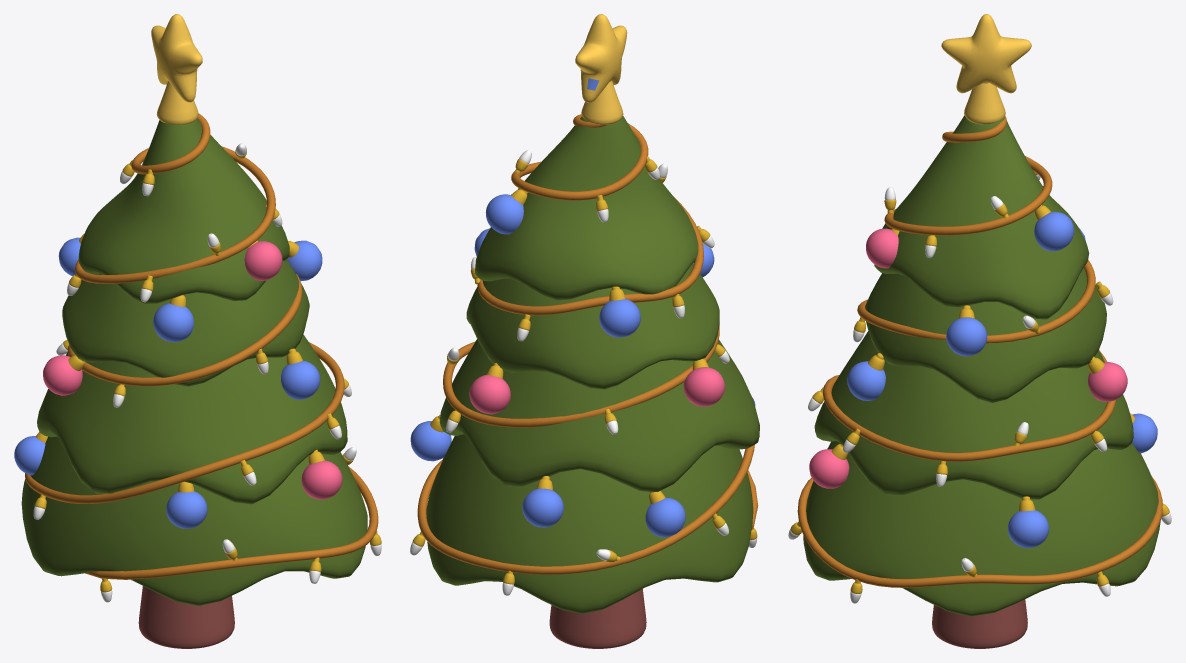
Rendered from X mas Tree.fbx.
The picture shows the model from 3 angles, left to right: view 1: azimuth 30°, elevation 25°; view 2: azimuth 150°, elevation 25°; view 3: azimuth 270°, elevation 25°; orthographic projection.
Visible parts, largest first — view 1: polySurface4; view 2: polySurface4; view 3: polySurface4.
Part boxes in pixels (x1,y1,x2,y2): polySurface4: (14, 14, 381, 648); polySurface4: (410, 14, 759, 648); polySurface4: (788, 14, 1171, 648).
Bounding box in the file's own units: 346 × 671 × 380.
